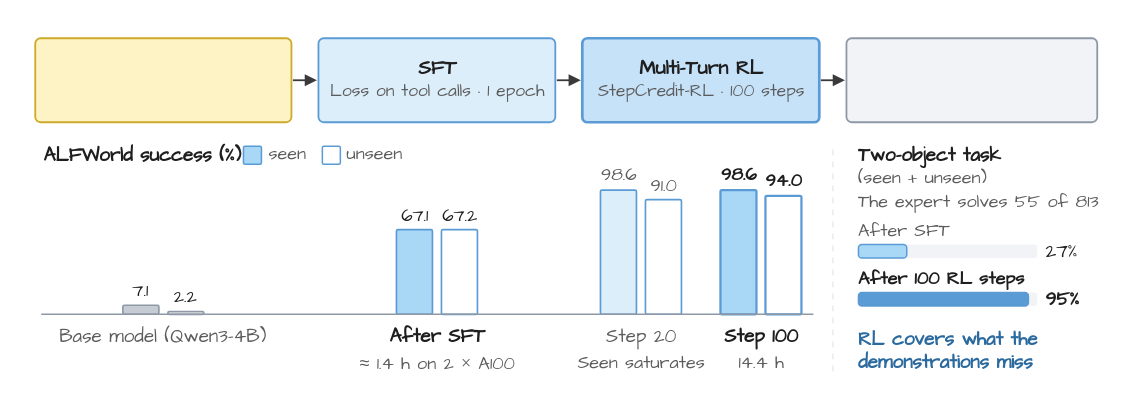
The diagram is 1131 pixels wide and 411 high, and some of its shapes have lost their labels. Each missing label, with the centre of its shape:
Expert Demonstrations 2,145 of 3,553 games solved: pixel 163 79
Paired Evaluation Same tasks · McNemar test: pixel 971 79
